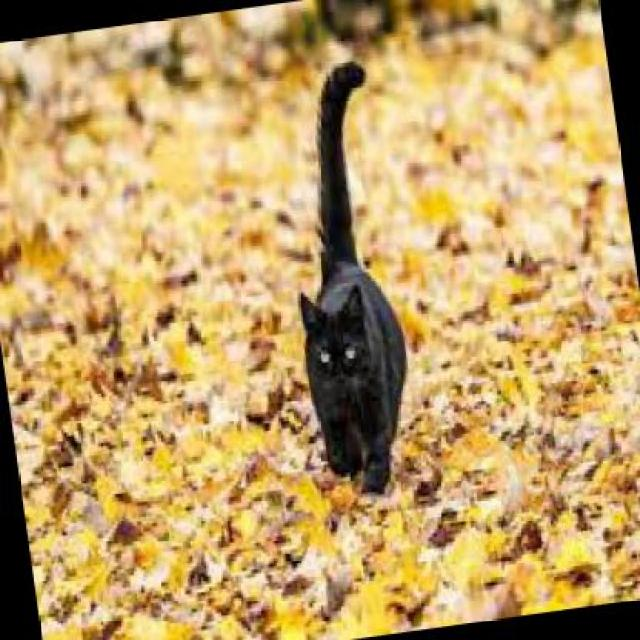animals: (255, 47, 459, 507)
